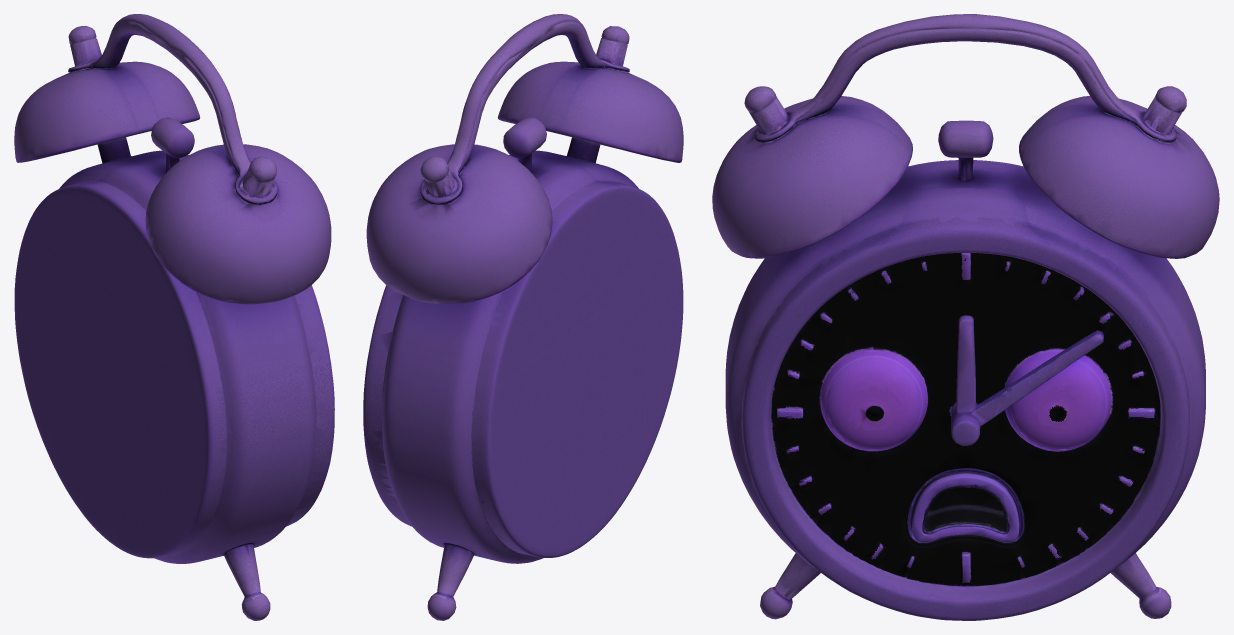
File: clock.glb
The picture shows the model from 3 angles, left to right: view 1: azimuth 30°, elevation 25°; view 2: azimuth 150°, elevation 25°; view 3: azimuth 270°, elevation 25°; orthographic projection. The views are drawn at different scales.
Parts seen in each view (by area): view 1: tripo_part_1, tripo_part_0, tripo_part_3, tripo_part_4, tripo_part_5, tripo_part_2, tripo_part_11, tripo_part_12, tripo_part_15, tripo_part_16; view 2: tripo_part_1, tripo_part_0, tripo_part_4, tripo_part_3, tripo_part_5, tripo_part_2, tripo_part_10, tripo_part_12, tripo_part_15, tripo_part_16; view 3: tripo_part_14, tripo_part_2, tripo_part_0, tripo_part_3, tripo_part_4, tripo_part_5, tripo_part_7, tripo_part_6, tripo_part_8, tripo_part_9, tripo_part_13, tripo_part_12 (+6 smaller).
Boxes of the visible parts, x1,y1,x2,y2 form: tripo_part_1: (14, 180, 226, 558); tripo_part_0: (59, 150, 328, 563); tripo_part_3: (145, 144, 331, 304); tripo_part_4: (14, 61, 200, 163); tripo_part_5: (68, 14, 277, 205); tripo_part_2: (286, 285, 334, 526); tripo_part_11: (223, 543, 270, 620); tripo_part_12: (151, 117, 194, 172); tripo_part_15: (238, 156, 276, 200); tripo_part_16: (68, 26, 101, 64); tripo_part_1: (471, 181, 683, 557); tripo_part_0: (370, 150, 638, 563); tripo_part_4: (366, 144, 552, 304); tripo_part_3: (497, 61, 683, 163); tripo_part_5: (420, 14, 629, 204); tripo_part_2: (363, 285, 411, 526); tripo_part_10: (427, 543, 474, 620); tripo_part_12: (503, 117, 546, 172); tripo_part_15: (596, 26, 629, 66); tripo_part_16: (420, 156, 454, 196); tripo_part_14: (771, 253, 1159, 586); tripo_part_2: (741, 216, 1190, 620); tripo_part_0: (725, 161, 1205, 568); tripo_part_3: (712, 96, 912, 258); tripo_part_4: (1019, 96, 1219, 258); tripo_part_5: (755, 14, 1176, 142); tripo_part_7: (820, 349, 927, 451); tripo_part_6: (911, 471, 1020, 542); tripo_part_8: (1005, 349, 1111, 451); tripo_part_9: (951, 315, 1002, 445); tripo_part_13: (983, 330, 1103, 415); tripo_part_12: (938, 120, 993, 181).
Bounding box in the file's own units: 0.3257 × 1 × 0.7637.
Materials: 47 (47 with a texture image).
